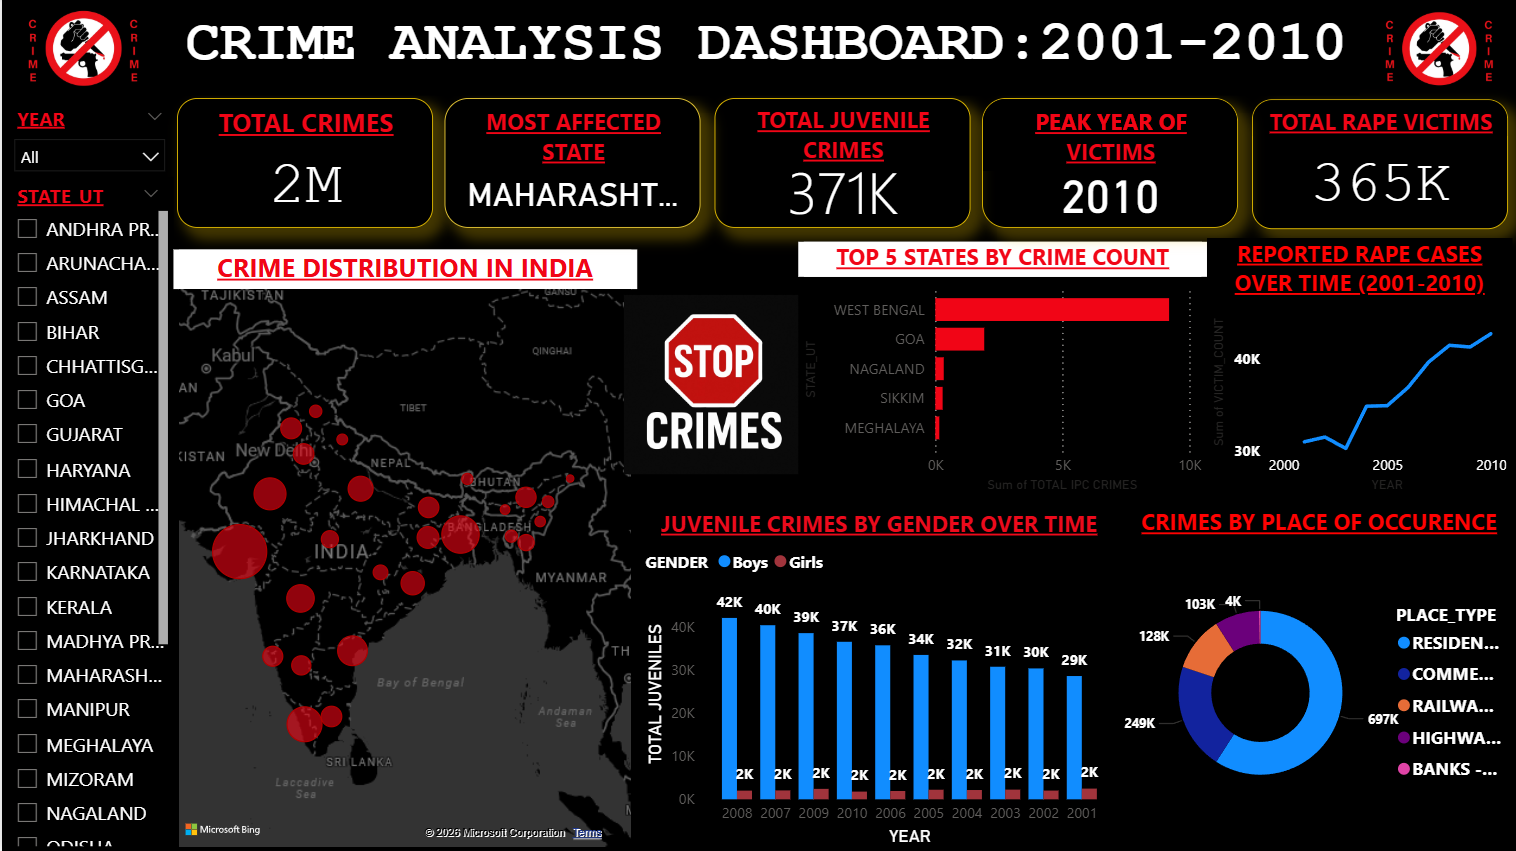

The page's visual inventory and layout, read from the dashboard file:
{"tool":"powerbi","page":{"name":"Page 2","canvas":[1280,720],"ordinal":1},"visuals":[{"type":"slicer","fields":{"Values":["YEAR_LOOKUP.YEAR"]},"box":[0,85.9,147.9,63.6],"z":0},{"type":"card","title":"TOTAL CRIMES","fields":{"Values":["CRIMES BY PLACES.Total Crimes"]},"box":[147.9,84.3,216.3,109.8],"z":1000},{"type":"card","title":"TOTAL RAPE VICTIMS","fields":{"Values":["Sum(VICTIMS_OF_RAPE.Total_Rape_Victims)"]},"box":[1054.6,85.9,216.3,109.8],"z":2000},{"type":"slicer","fields":{"Values":["STATE_LOOKUP.STATE_UT"]},"box":[0,151.1,144.7,569.4],"z":3000},{"type":"card","title":"TOTAL JUVENILE CRIMES","fields":{"Values":["Sum(JUVENILE_APPREHENDED.Total_Juvenile)"]},"box":[601.3,84.3,216.3,109.8],"z":4000},{"type":"map","title":"CRIME DISTRIBUTION IN INDIA","fields":{"Category":["DISTRICT_WISE_CRIMES.STATE_UT"],"Size":["Sum(DISTRICT_WISE_CRIMES.TOTAL IPC CRIMES)"]},"box":[144.7,211.6,391.3,509],"z":5000},{"type":"image","box":[520.1,176.6,160.7,300.6],"z":6000},{"type":"clusteredColumnChart","title":"JUVENILE CRIMES BY GENDER OVER TIME","fields":{"Category":["JUVENILE_APPREHENDED.YEAR"],"Y":["Sum(JUVENILE_APPREHENDED.Total_Juvenile)"],"Series":["JUVENILE_APPREHENDED.GENDER"]},"box":[537.8,430,404.4,289.5],"z":7000},{"type":"barChart","title":"TOP 5 STATES BY CRIME COUNT","fields":{"Category":["DISTRICT_WISE_CRIMES.STATE_UT"],"Y":["Sum(DISTRICT_WISE_CRIMES.TOTAL IPC CRIMES)"]},"box":[671.2,205.2,345.2,216.3],"z":8000},{"type":"card","title":"MOST AFFECTED STATE","fields":{"Values":["CRIMES BY PLACES.Top State"]},"box":[373.8,84.3,216.3,109.8],"z":9000},{"type":"card","title":"PEAK YEAR OF VICTIMS","fields":{"Values":["VICTIMS_OF_RAPE.Peak Year"]},"box":[827.1,84.3,216,109.8],"z":10000},{"type":"donutChart","title":"CRIMES BY PLACE OF OCCURENCE","fields":{"Y":["Sum(CRIMES BY PLACES.CRIMES)"],"Category":["CRIMES BY PLACES.PLACE_TYPE (groups) (groups) (groups) (groups) (groups)"]},"box":[943.2,429.5,337.2,289.5],"z":11000},{"type":"lineChart","title":"REPORTED RAPE CASES OVER TIME (2001-2010)","fields":{"Category":["VICTIMS_OF_RAPE.YEAR"],"Y":["Sum(VICTIMS_OF_RAPE.VICTIM_COUNT)"]},"box":[1016.4,202,257.7,219.5],"z":12000},{"type":"image","box":[0,4.8,138.4,77.9],"z":13000},{"type":"image","box":[1143.6,6.4,136.8,76.3],"z":14000},{"type":"textbox","box":[144.7,6.4,1000.5,76.3],"z":15000}]}

Visuals, with their boxes in screenshot pixels (x1, y1, x2, y2), scaled from the page's 1280x720 canvas onto the 1516x851 screenshot:
slicer - YEAR_LOOKUP.YEAR: 0,102,175,177
"TOTAL CRIMES" card: 175,100,431,229
"TOTAL RAPE VICTIMS" card: 1249,102,1505,231
slicer - STATE_LOOKUP.STATE_UT: 0,179,171,850
"TOTAL JUVENILE CRIMES" card: 712,100,968,229
"CRIME DISTRIBUTION IN INDIA" map: 171,250,635,850
image: 616,209,806,564
"JUVENILE CRIMES BY GENDER OVER TIME" clusteredColumnChart: 637,508,1116,850
"TOP 5 STATES BY CRIME COUNT" barChart: 795,243,1204,498
"MOST AFFECTED STATE" card: 443,100,699,229
"PEAK YEAR OF VICTIMS" card: 980,100,1235,229
"CRIMES BY PLACE OF OCCURENCE" donutChart: 1117,508,1515,850
"REPORTED RAPE CASES OVER TIME (2001-2010)" lineChart: 1204,239,1509,498
image: 0,6,164,98
image: 1354,8,1515,98
textbox: 171,8,1356,98
